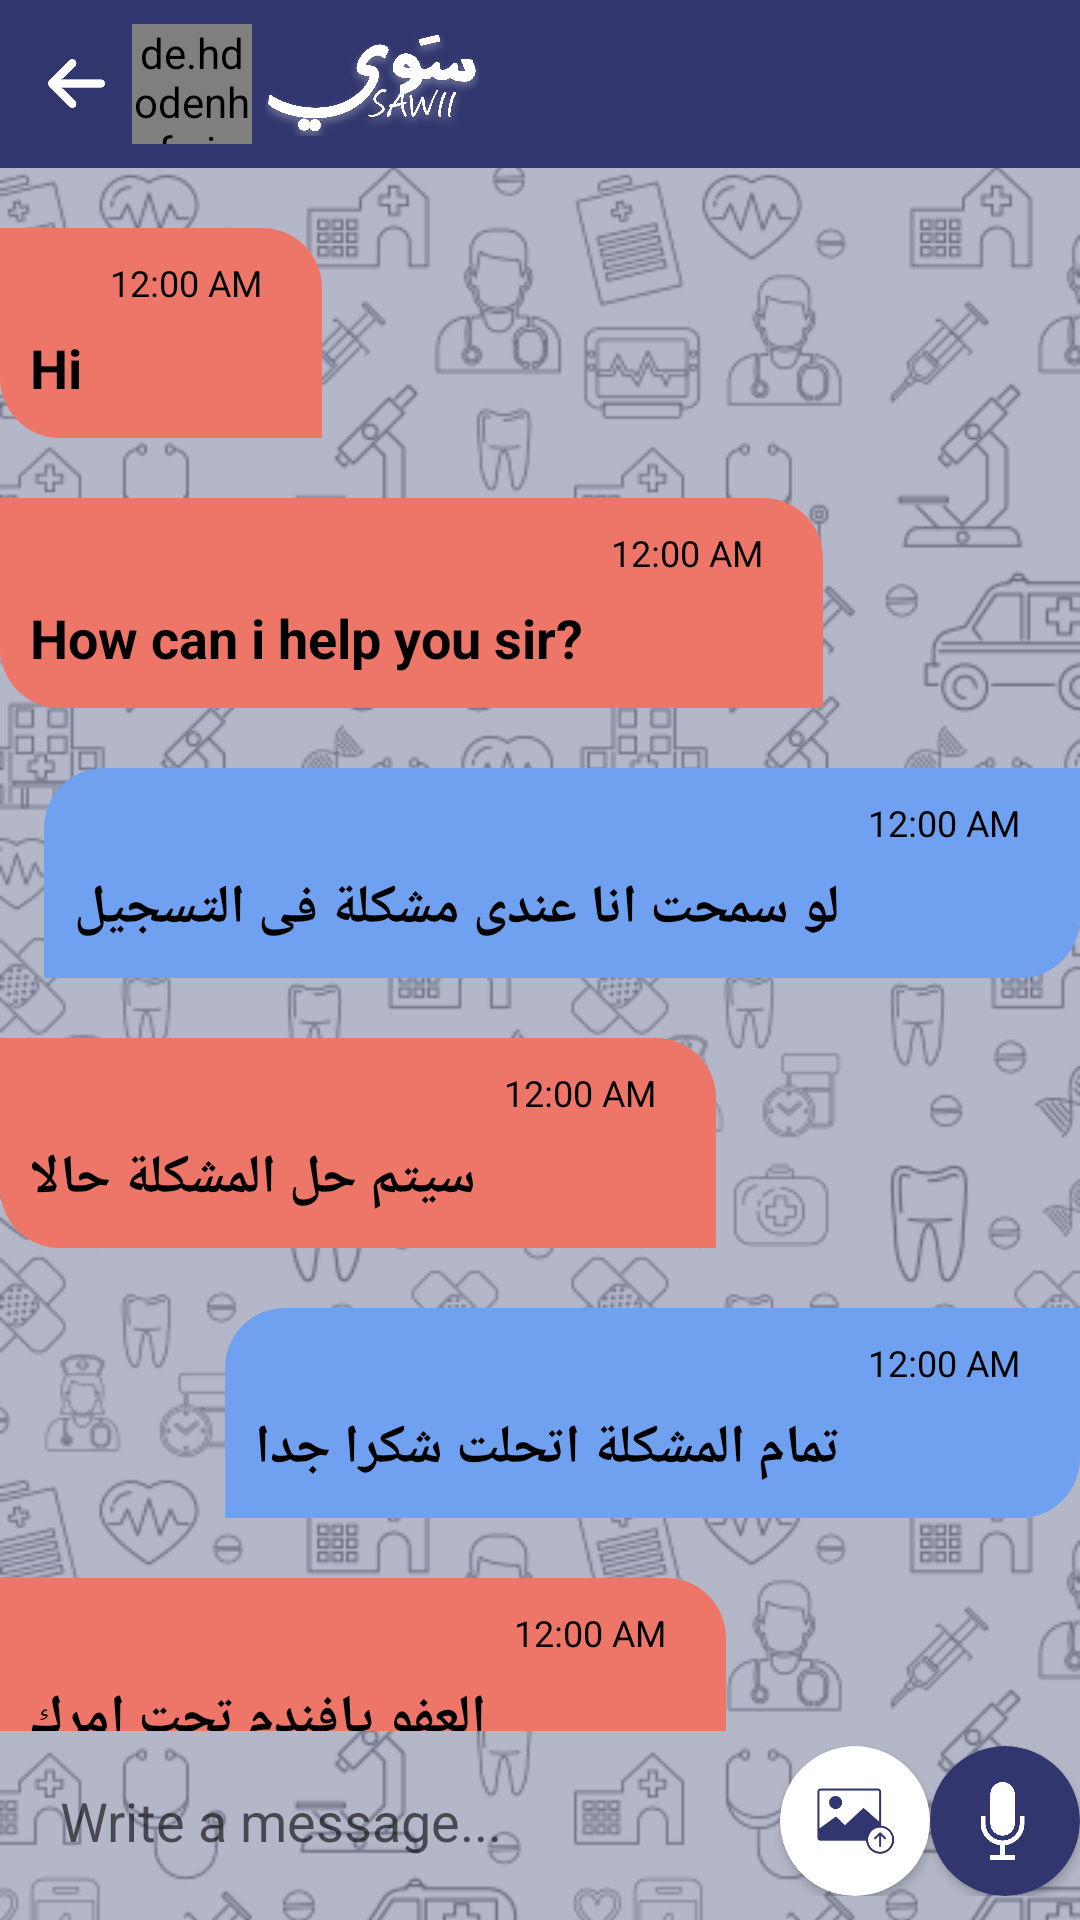

Icon bounding boxes for this 1080px×1920px phone screenshot, format [x1=x1, y1=y1, x2=x2, y2=y2]:
arrow: [x1=48, y1=59, x2=105, y2=108]
mic: [x1=981, y1=1782, x2=1025, y2=1860]
uplaod photo: [x1=817, y1=1788, x2=894, y2=1854]
